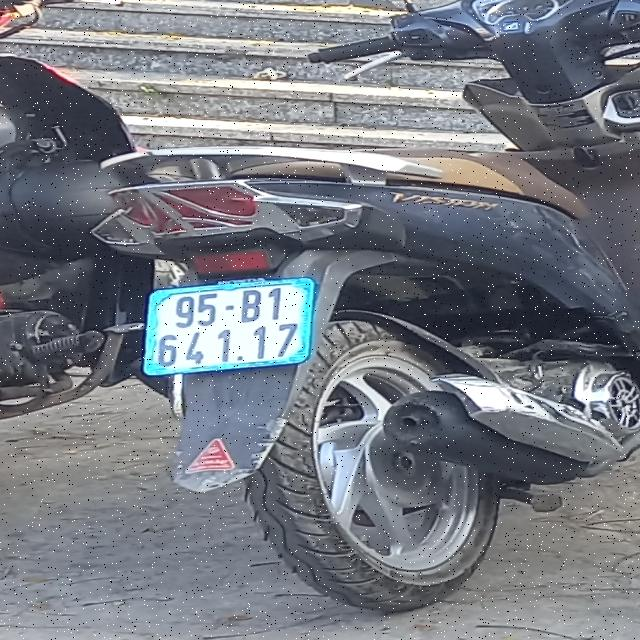2: (251, 324, 267, 360), (217, 328, 230, 362)
4: (185, 332, 205, 366)
5: (195, 290, 222, 328)
6: (156, 334, 178, 369)
7: (276, 323, 298, 358)
9: (174, 294, 194, 329)
B: (238, 288, 262, 323), (267, 286, 283, 319)
